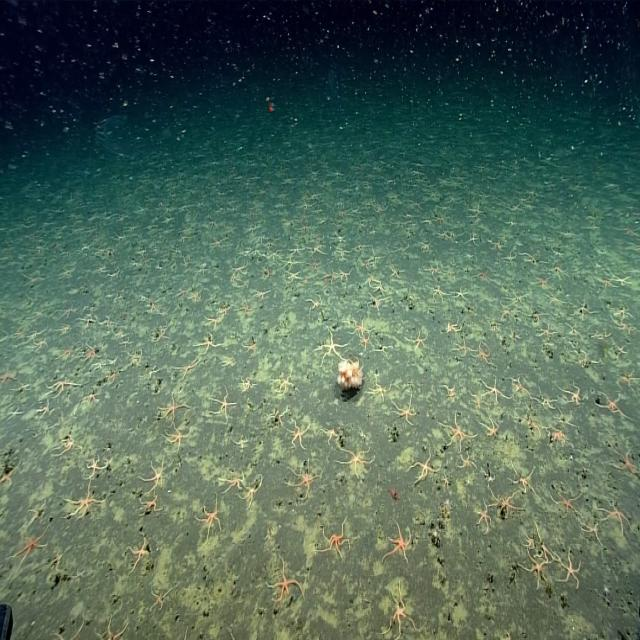brittle-stars: (385, 590, 415, 636), (65, 484, 103, 520), (14, 524, 50, 562), (269, 560, 300, 602), (602, 499, 634, 535), (320, 519, 350, 557), (384, 522, 410, 563), (442, 414, 471, 450), (516, 409, 549, 440), (557, 549, 582, 589), (339, 448, 372, 477), (17, 501, 46, 533), (535, 523, 557, 564), (510, 463, 538, 495), (290, 462, 318, 494), (521, 551, 548, 584), (196, 500, 222, 534), (552, 486, 580, 517), (318, 332, 346, 363), (596, 389, 625, 418), (211, 388, 235, 422), (411, 450, 437, 481), (491, 488, 519, 516), (129, 534, 152, 568), (614, 448, 640, 478), (161, 392, 186, 423), (142, 461, 167, 490), (97, 618, 128, 640), (0, 460, 22, 490), (482, 377, 506, 404), (173, 355, 201, 378), (287, 419, 309, 448), (49, 376, 80, 396), (394, 397, 416, 425), (240, 478, 262, 506), (165, 425, 189, 450), (274, 370, 297, 396), (476, 502, 494, 534), (55, 622, 87, 640), (561, 382, 584, 407), (584, 517, 604, 545), (57, 434, 80, 458), (220, 468, 243, 492), (571, 350, 600, 369), (196, 334, 221, 356), (369, 378, 391, 402), (46, 548, 70, 570), (149, 586, 170, 611), (572, 300, 594, 322), (140, 491, 160, 514), (481, 416, 501, 439), (409, 329, 429, 352), (615, 318, 635, 341), (86, 456, 106, 478), (536, 389, 555, 412), (264, 410, 288, 428), (453, 338, 473, 359), (508, 287, 529, 307), (556, 409, 578, 428), (619, 370, 639, 390), (367, 291, 388, 310), (550, 424, 568, 446), (352, 316, 371, 336), (83, 342, 101, 363), (0, 366, 17, 388), (513, 378, 530, 400), (320, 427, 342, 444), (153, 324, 171, 344), (58, 303, 78, 321), (30, 336, 50, 354), (372, 342, 394, 358), (477, 342, 492, 365), (458, 453, 476, 471), (521, 253, 548, 265), (532, 273, 551, 290), (57, 345, 76, 362), (85, 388, 101, 408), (470, 395, 491, 410), (538, 322, 555, 340), (6, 406, 24, 423), (205, 313, 223, 330), (128, 350, 144, 369), (34, 402, 50, 421), (424, 262, 441, 279), (430, 284, 446, 302), (446, 318, 462, 336), (547, 291, 565, 307), (17, 379, 33, 397), (551, 265, 569, 281), (106, 365, 120, 385), (171, 629, 196, 640), (285, 269, 302, 285), (597, 275, 614, 291), (241, 375, 256, 393), (614, 273, 632, 288), (254, 286, 272, 301), (440, 383, 458, 398), (453, 286, 469, 302), (565, 323, 581, 339), (388, 264, 403, 281), (210, 236, 225, 253), (476, 267, 491, 284), (498, 305, 513, 322), (232, 263, 249, 278), (239, 300, 253, 318), (139, 366, 158, 379), (358, 335, 373, 351), (524, 531, 536, 551), (616, 308, 635, 320), (365, 271, 380, 286), (444, 266, 458, 282), (374, 280, 388, 296), (490, 238, 504, 254), (591, 330, 613, 340), (268, 248, 282, 263), (288, 243, 302, 258), (310, 243, 325, 257), (283, 255, 298, 269), (336, 246, 351, 260), (263, 268, 277, 283), (324, 270, 339, 284), (442, 473, 453, 492), (188, 288, 201, 304), (466, 232, 479, 248), (99, 317, 112, 333), (502, 252, 518, 265), (338, 268, 352, 282), (309, 258, 322, 273), (233, 436, 249, 448), (308, 298, 324, 309), (432, 212, 444, 226), (220, 360, 236, 370), (120, 336, 130, 351), (114, 326, 125, 339), (463, 249, 474, 262), (302, 274, 312, 288), (362, 261, 373, 270), (419, 242, 430, 250)
